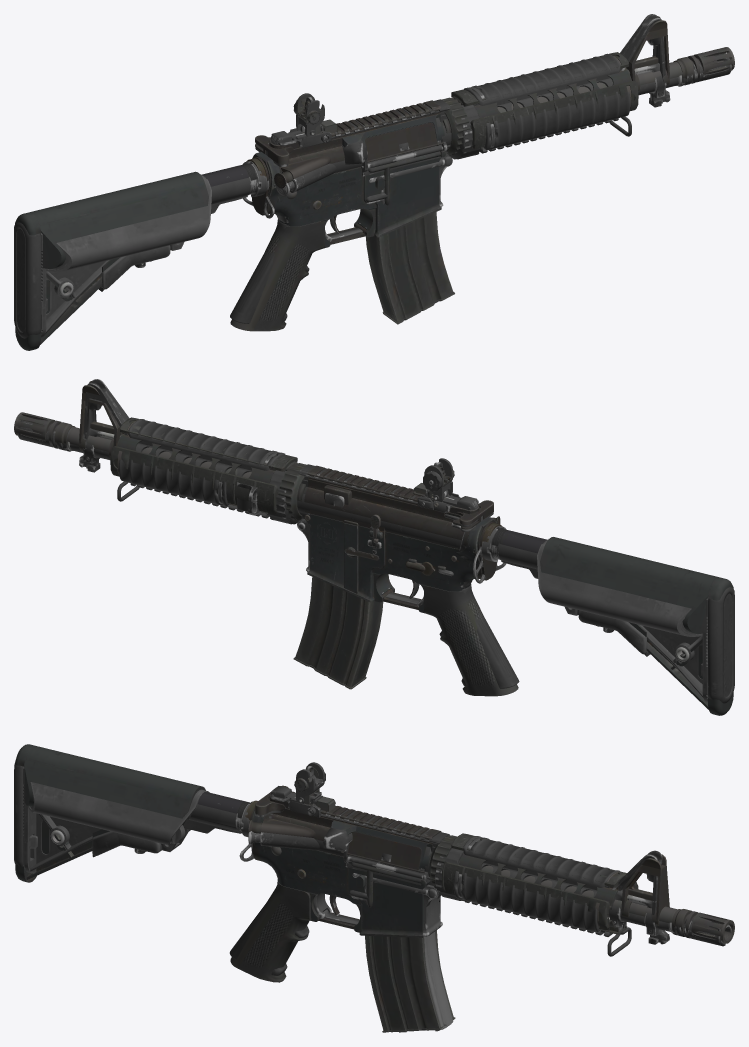
3 renders of one model, top to bottom at view 1: azimuth 30°, elevation 25°; view 2: azimuth 150°, elevation 25°; view 3: azimuth 330°, elevation 25°, orthographic.
Visible parts, largest first — view 1: weapon_rif_m4a4.vmdl_c.body_legacy, weapon_rif_m4a4.vmdl_c.body_hd; view 2: weapon_rif_m4a4.vmdl_c.body_legacy, weapon_rif_m4a4.vmdl_c.body_hd; view 3: weapon_rif_m4a4.vmdl_c.body_legacy, weapon_rif_m4a4.vmdl_c.body_hd.
Part boxes in pixels (bbox=[...]): weapon_rif_m4a4.vmdl_c.body_legacy: bbox=[15, 16, 734, 350]; weapon_rif_m4a4.vmdl_c.body_hd: bbox=[14, 14, 731, 338]; weapon_rif_m4a4.vmdl_c.body_legacy: bbox=[14, 381, 733, 715]; weapon_rif_m4a4.vmdl_c.body_hd: bbox=[17, 379, 734, 703]; weapon_rif_m4a4.vmdl_c.body_legacy: bbox=[15, 744, 734, 1032]; weapon_rif_m4a4.vmdl_c.body_hd: bbox=[14, 762, 731, 1032].
Bounding box in the file's own units: 35.38 × 11.51 × 3.59.
2 materials, 2 textured.
